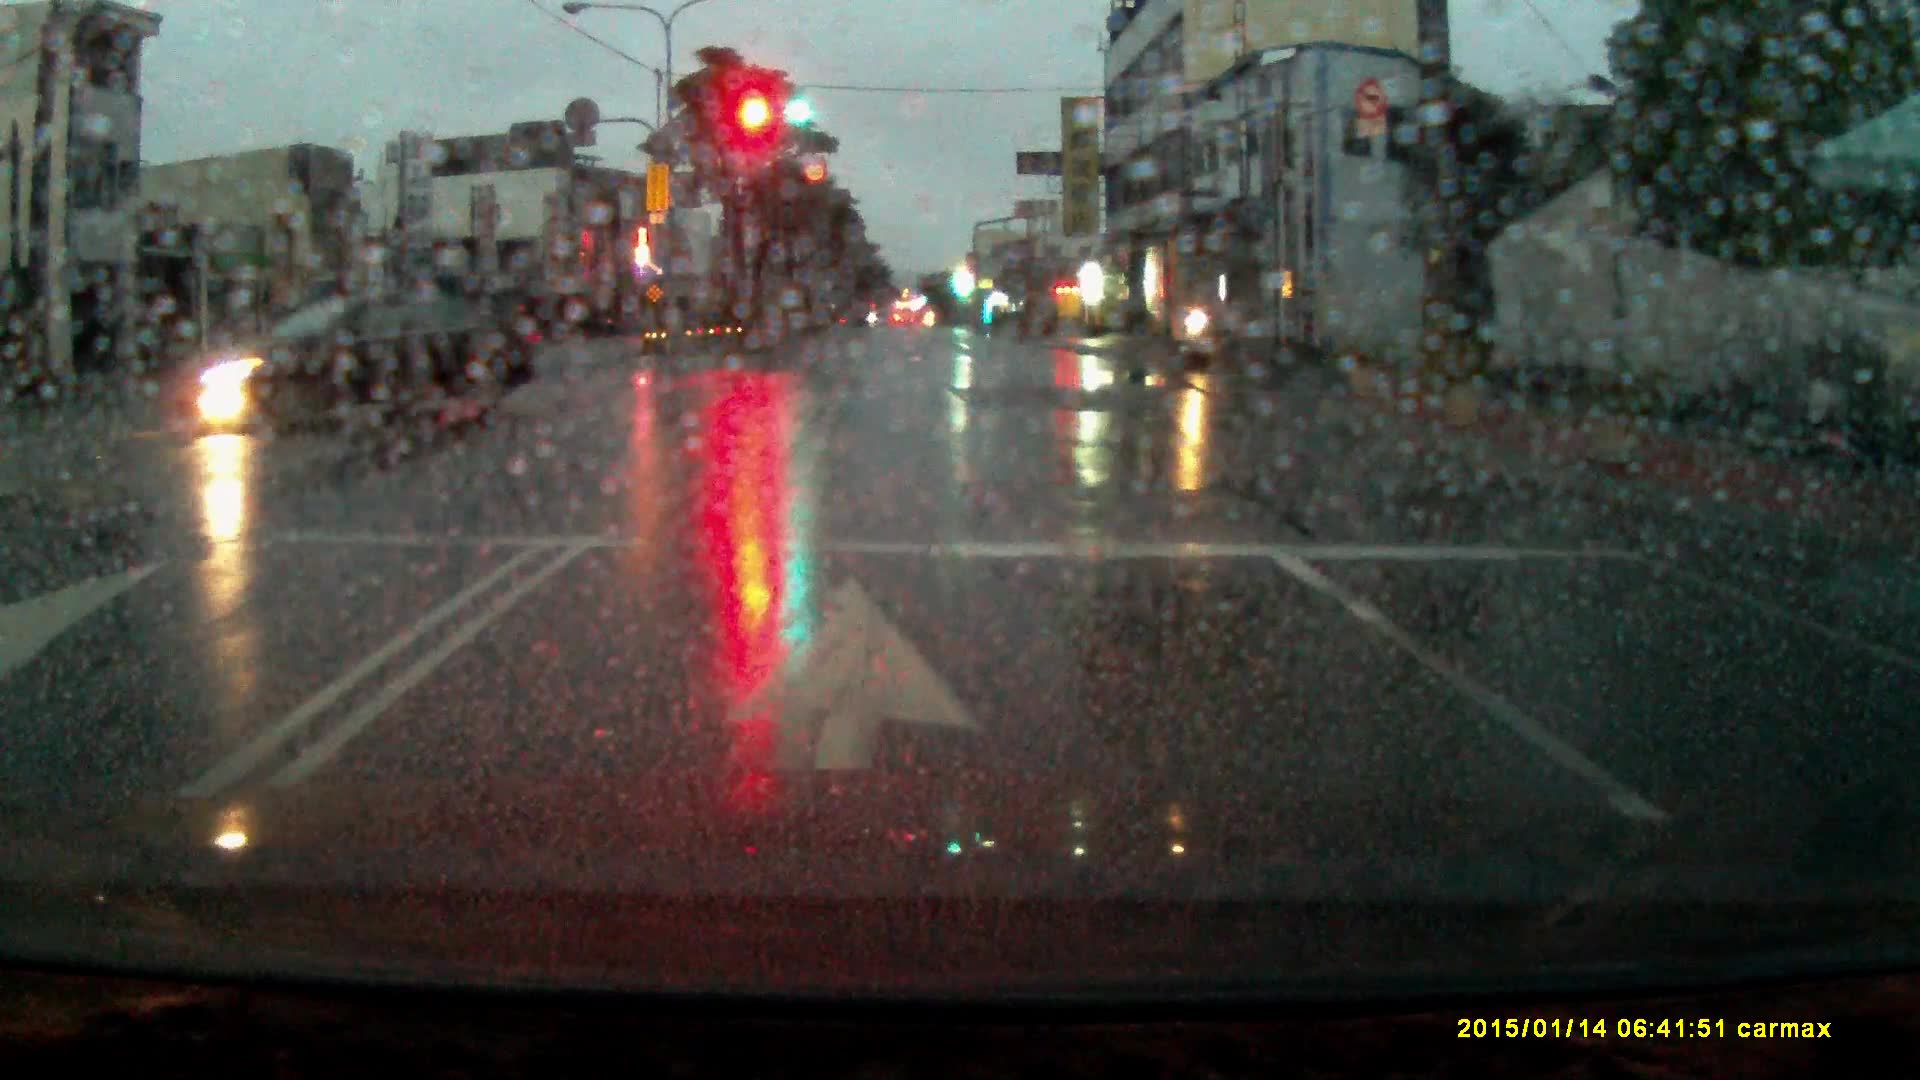rider: (1160, 283, 1248, 372)
vehicle: (191, 291, 546, 437)
